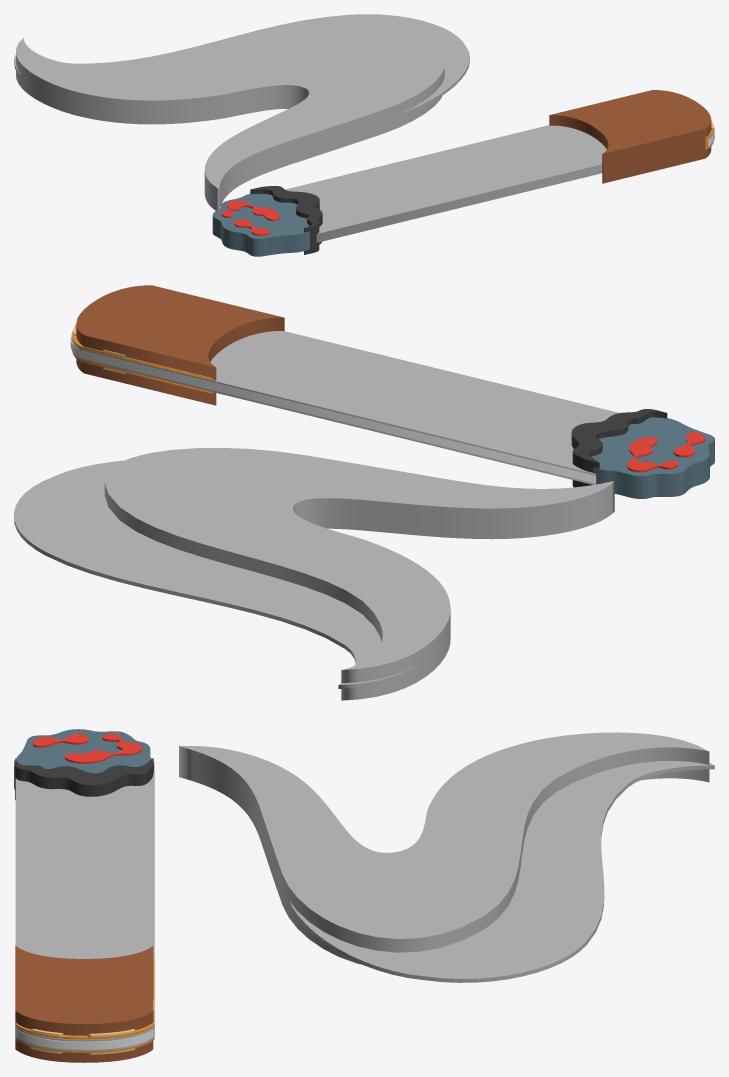
The model's file is emoji_u1f6ac.glb.
3 renders of one model, top to bottom at view 1: azimuth 30°, elevation 25°; view 2: azimuth 150°, elevation 25°; view 3: azimuth 270°, elevation 25°, orthographic. The views are drawn at different scales.
Parts seen in each view (by area): view 1: emoji_u1f6ac; view 2: emoji_u1f6ac; view 3: emoji_u1f6ac.
Part boxes in pixels (left/top/right/bottom): emoji_u1f6ac: left=14, top=14, right=714, bottom=256; emoji_u1f6ac: left=14, top=285, right=714, bottom=700; emoji_u1f6ac: left=14, top=729, right=714, bottom=1062.
Size of the model in its own units: 0.0338 by 0.002 by 0.0328.
